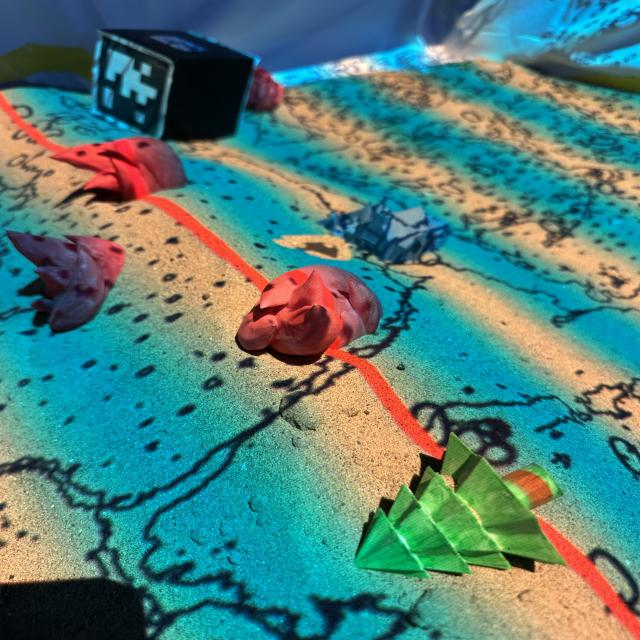fire: (237, 265, 384, 362), (7, 226, 124, 334), (55, 138, 193, 199)
house: (320, 197, 450, 265)
tree: (353, 431, 567, 580)
